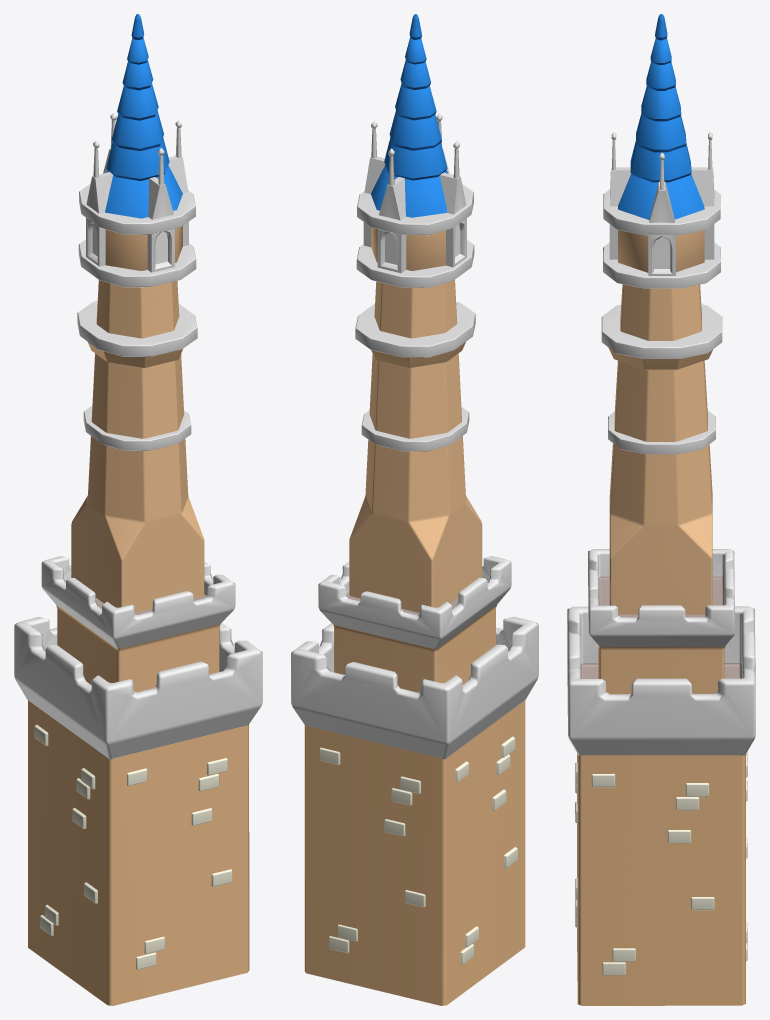
The model's file is castle_tower_005.gltf.
The picture shows the model from 3 angles, left to right: view 1: azimuth 30°, elevation 25°; view 2: azimuth 150°, elevation 25°; view 3: azimuth 270°, elevation 25°; orthographic projection.
Visible parts, largest first — view 1: castle_tower_005; view 2: castle_tower_005; view 3: castle_tower_005.
Part boxes in pixels (x1,y1,x2,y2): castle_tower_005: [14, 14, 262, 1005]; castle_tower_005: [291, 14, 538, 1005]; castle_tower_005: [567, 14, 755, 1005].
Bounding box in the file's own units: 4.7 × 26.66 × 4.77.
Materials: 2 (1 with a texture image).
